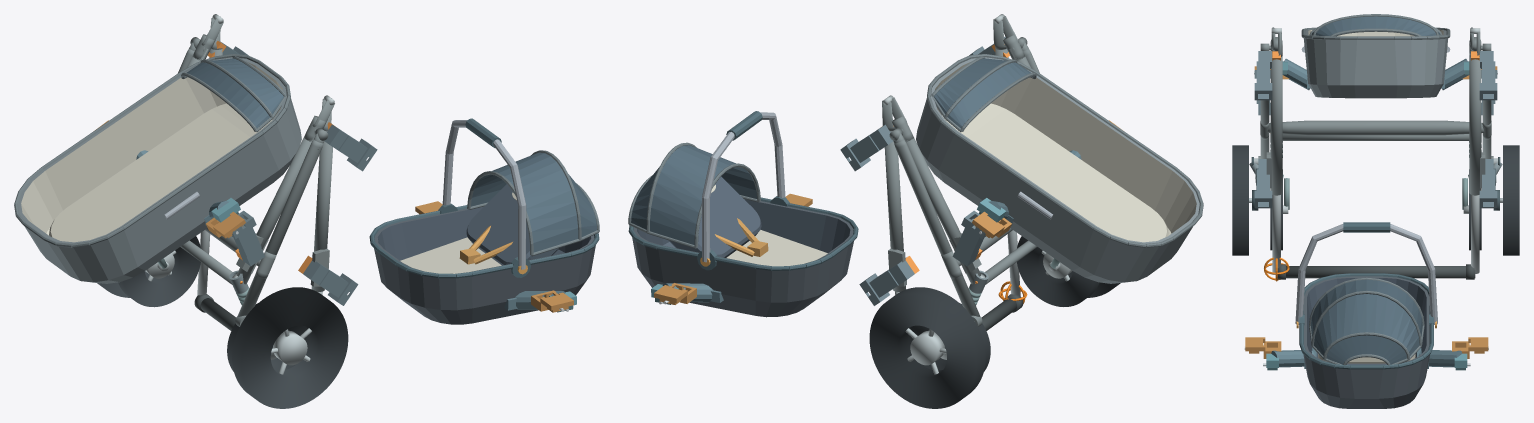
Rendered from D07_w650_state3_wheel_M.glb.
The picture shows the model from 3 angles, left to right: view 1: azimuth 30°, elevation 25°; view 2: azimuth 150°, elevation 25°; view 3: azimuth 270°, elevation 25°; orthographic projection. The views are drawn at different scales.
Visible parts, largest first — view 1: D07_Lower, D07_Upper, RL_tire.011, FR_tire.011, V46_rear_leg_-1.011, main_lower_-1.012, main_upper_-1.012, Universal_Cabin_Receiver_H_-1, Universal_Cabin_Receiver_M_-1, Universal_Cabin_Receiver_L_-1, RL_sealed_hub.011, D02_WideAdapter_H_-1 (+6 smaller); view 2: D07_Lower, D07_Upper, RR_tire.011, FL_tire.011, V46_rear_leg_1.011, main_lower_1.012, main_upper_1.012, Universal_Cabin_Receiver_H_1, Universal_Cabin_Receiver_M_1, Universal_Cabin_Receiver_L_1, RR_sealed_hub.011, D02_WideAdapter_H_1 (+6 smaller); view 3: D07_Upper, D07_Lower, V46_rearbar.011, RL_tire.011, RR_tire.011, round_handle.013, main_upper_1.012, main_upper_-1.012, D07_Upper_Mount_H, front_fixed_round_tube.011, D07_Lower_Mount_L, Universal_Cabin_Receiver_M_1 (+12 smaller).
Part boxes in pixels (x1=…): D07_Lower: x1=14, y1=54, x2=301, y2=283; D07_Upper: x1=369, y1=118, x2=599, y2=324; RL_tire.011: x1=232, y1=287, x2=348, y2=408; FR_tire.011: x1=118, y1=236, x2=200, y2=307; V46_rear_leg_-1.011: x1=238, y1=139, x2=323, y2=316; main_lower_-1.012: x1=236, y1=136, x2=314, y2=284; main_upper_-1.012: x1=311, y1=131, x2=332, y2=291; Universal_Cabin_Receiver_H_-1: x1=303, y1=260, x2=358, y2=305; Universal_Cabin_Receiver_M_-1: x1=324, y1=124, x2=377, y2=171; Universal_Cabin_Receiver_L_-1: x1=232, y1=210, x2=264, y2=266; RL_sealed_hub.011: x1=273, y1=330, x2=307, y2=365; D02_WideAdapter_H_-1: x1=531, y1=290, x2=573, y2=312; D07_Lower: x1=916, y1=54, x2=1203, y2=283; D07_Upper: x1=628, y1=111, x2=858, y2=317; RR_tire.011: x1=869, y1=287, x2=985, y2=408; FL_tire.011: x1=1017, y1=236, x2=1099, y2=306; V46_rear_leg_1.011: x1=894, y1=139, x2=979, y2=316; main_lower_1.012: x1=903, y1=136, x2=980, y2=284; main_upper_1.012: x1=884, y1=131, x2=905, y2=291; Universal_Cabin_Receiver_H_1: x1=859, y1=260, x2=914, y2=305; Universal_Cabin_Receiver_M_1: x1=840, y1=124, x2=892, y2=171; Universal_Cabin_Receiver_L_1: x1=952, y1=210, x2=985, y2=266; RR_sealed_hub.011: x1=910, y1=330, x2=944, y2=365; D02_WideAdapter_H_1: x1=654, y1=283, x2=696, y2=304; D07_Upper: x1=1295, y1=222, x2=1437, y2=408; D07_Lower: x1=1301, y1=14, x2=1450, y2=98; V46_rearbar.011: x1=1267, y1=120, x2=1484, y2=135; RL_tire.011: x1=1232, y1=145, x2=1248, y2=255; RR_tire.011: x1=1503, y1=145, x2=1519, y2=255; round_handle.013: x1=1286, y1=266, x2=1475, y2=278; main_upper_1.012: x1=1469, y1=56, x2=1481, y2=195; main_upper_-1.012: x1=1270, y1=56, x2=1282, y2=195; D07_Upper_Mount_H: x1=1263, y1=348, x2=1470, y2=370; front_fixed_round_tube.011: x1=1282, y1=134, x2=1469, y2=140; D07_Lower_Mount_L: x1=1282, y1=58, x2=1469, y2=90; Universal_Cabin_Receiver_M_1: x1=1479, y1=51, x2=1497, y2=100.
Bounding box in the file's own units: 1.53 × 0.7726 × 0.781.
